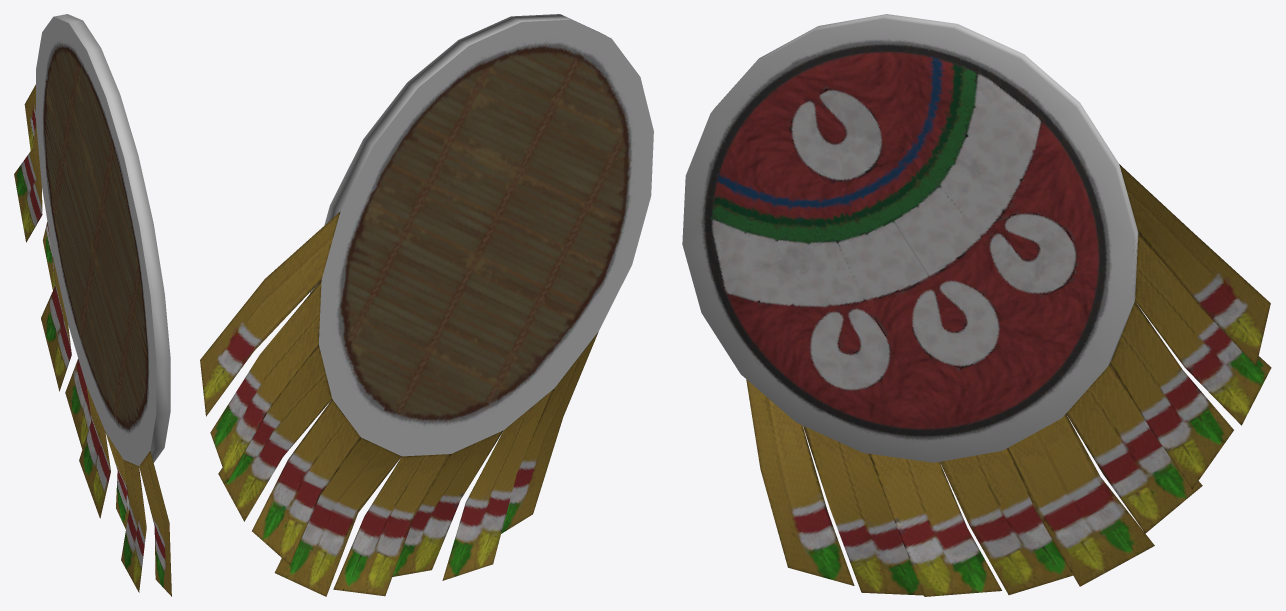
File: shield-sacredshields.glb
3 views of the same model, side by side, from view 1: azimuth 30°, elevation 25°; view 2: azimuth 150°, elevation 25°; view 3: azimuth 270°, elevation 25° (orthographic). The views are drawn at different scales.
Bounding box in the file's own units: 0.3425 × 1.13 × 1.08.
Materials: 1 (1 with a texture image).
